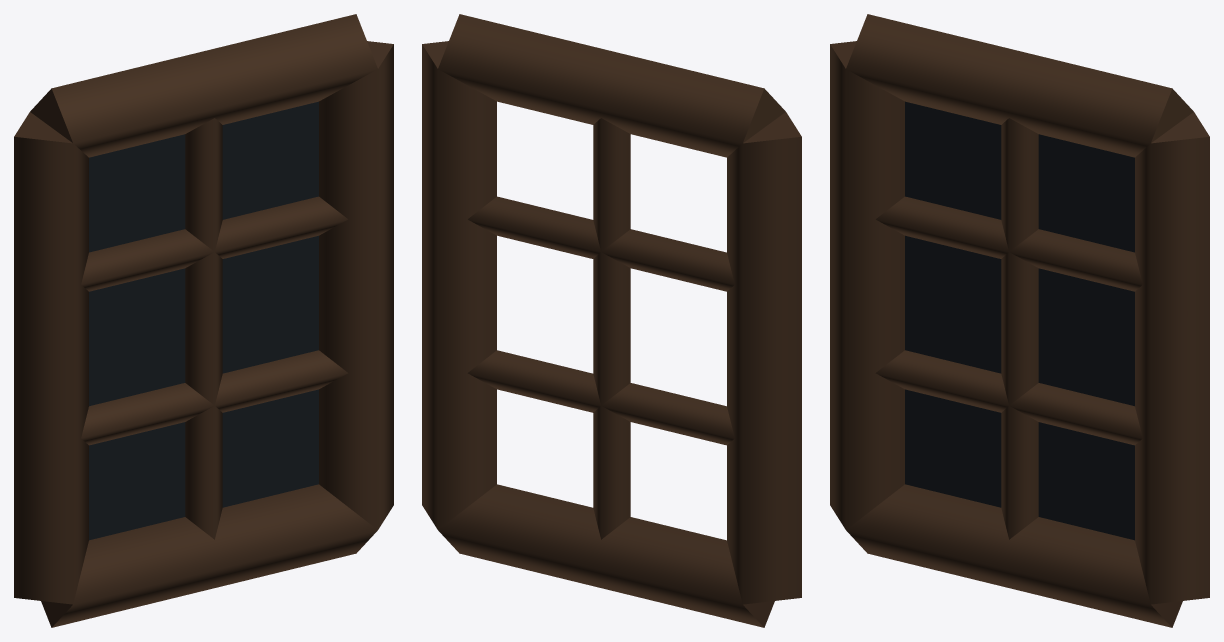
Rendered from casement_01.glb.
The picture shows the model from 3 angles, left to right: view 1: azimuth 30°, elevation 25°; view 2: azimuth 150°, elevation 25°; view 3: azimuth 330°, elevation 25°; orthographic projection.
Parts seen in each view (by area): view 1: window_casement_01; view 2: window_casement_01; view 3: window_casement_01.
Boxes of the visible parts, box(x1,y1,x2,y2) form: window_casement_01: box(14, 14, 393, 627); window_casement_01: box(422, 14, 801, 627); window_casement_01: box(830, 14, 1209, 627).
Bounding box in the file's own units: 0.8107 × 1.1 × 0.16.
